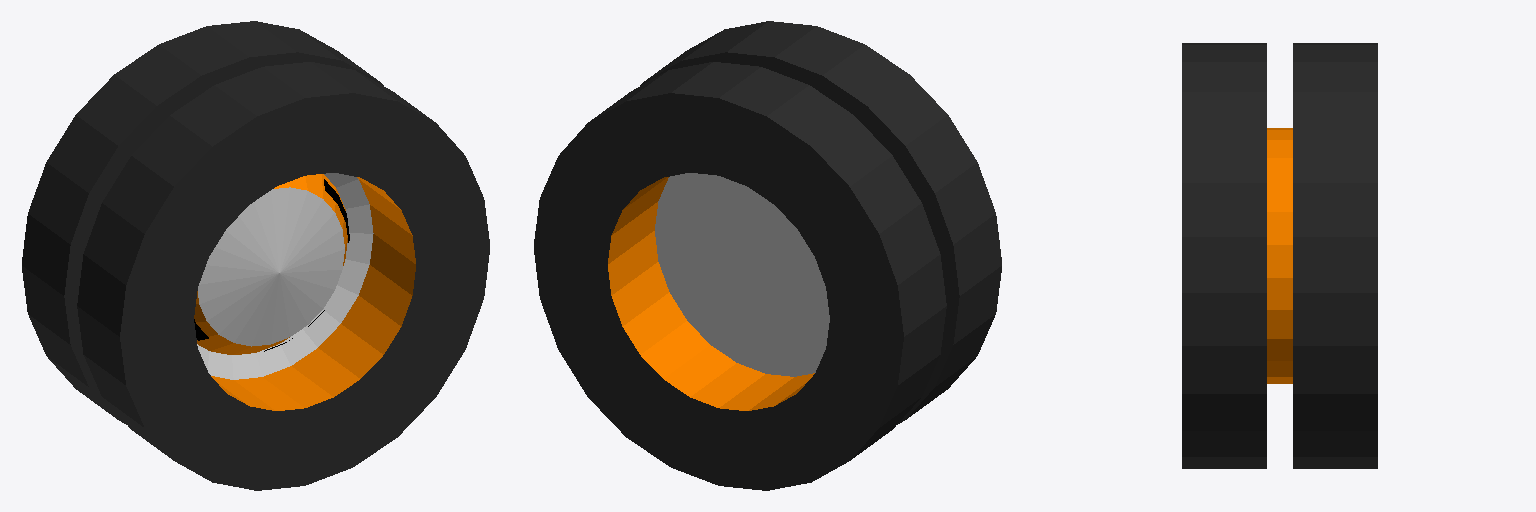
File: dual-wheel.obj
The picture shows the model from 3 angles: view 1: azimuth 30°, elevation 25°; view 2: azimuth 150°, elevation 25°; view 3: azimuth 270°, elevation 25°; orthographic projection.
Bounding box in the file's own units: 1 × 1 × 0.46.